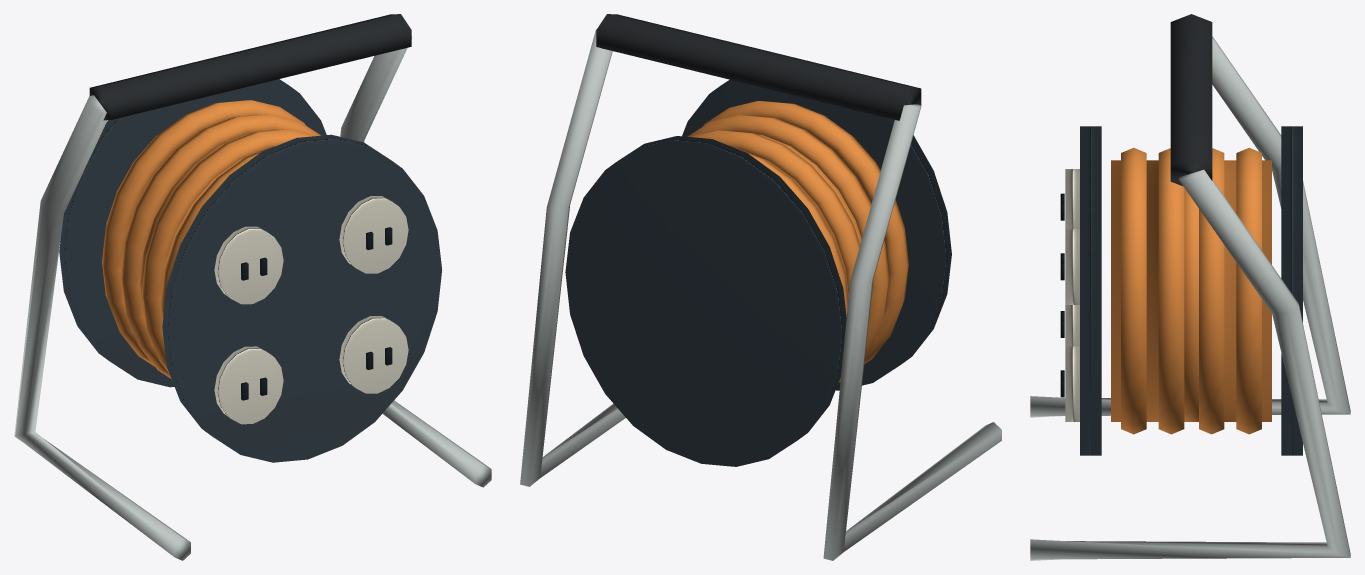
The model's file is P066_extension_reel_rebuilt.glb.
The picture shows the model from 3 angles, left to right: view 1: azimuth 30°, elevation 25°; view 2: azimuth 150°, elevation 25°; view 3: azimuth 270°, elevation 25°; orthographic projection. The views are drawn at different scales.
Visible parts, largest first — view 1: shell, orange, silver, white, rubber, dark; view 2: shell, silver, orange, rubber; view 3: orange, silver, shell, rubber, white, dark.
Boxes of the visible parts, x1=… form: shell: x1=59, y1=79, x2=441, y2=462; orange: x1=102, y1=100, x2=320, y2=378; silver: x1=14, y1=36, x2=491, y2=560; white: x1=214, y1=196, x2=408, y2=424; rubber: x1=89, y1=14, x2=411, y2=120; dark: x1=241, y1=227, x2=392, y2=400; shell: x1=565, y1=79, x2=951, y2=466; silver: x1=520, y1=29, x2=1001, y2=560; orange: x1=687, y1=101, x2=908, y2=382; rubber: x1=596, y1=14, x2=921, y2=120; orange: x1=1111, y1=147, x2=1271, y2=434; silver: x1=1030, y1=36, x2=1350, y2=560; shell: x1=1080, y1=126, x2=1302, y2=455; rubber: x1=1170, y1=14, x2=1212, y2=186; white: x1=1065, y1=169, x2=1079, y2=421; dark: x1=1060, y1=193, x2=1064, y2=397.
Bounding box in the file's own units: 0.25 × 0.309 × 0.222.
